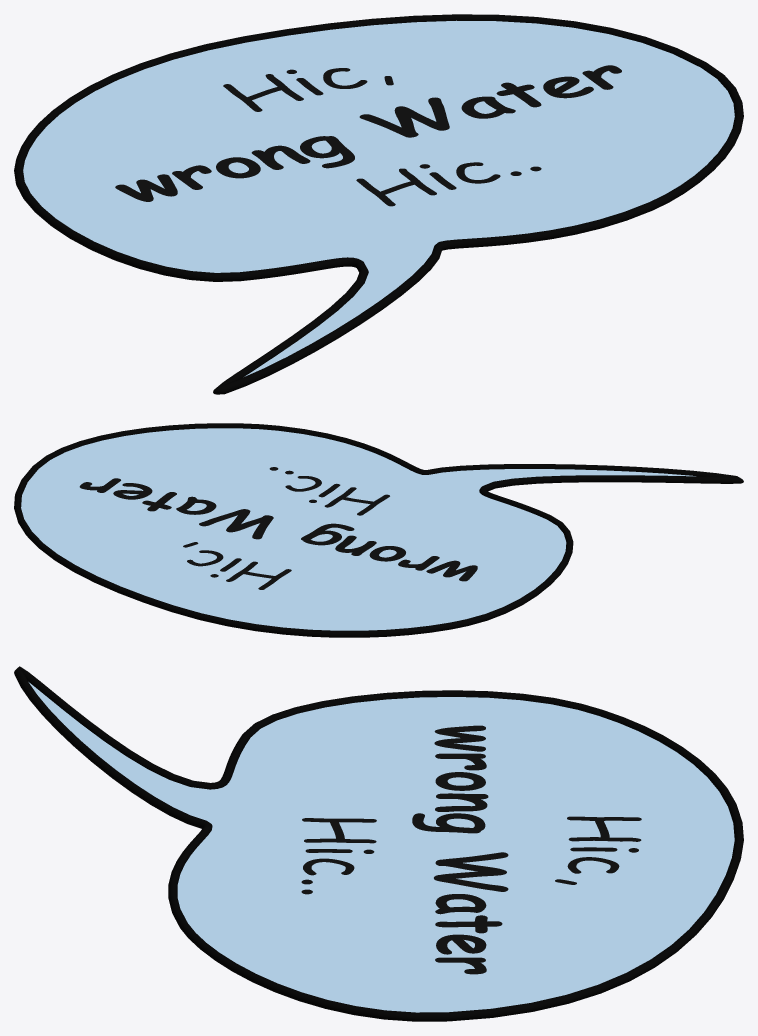
File: Hic.fbx
3 views of the same model, one above another, from view 1: azimuth 30°, elevation 25°; view 2: azimuth 150°, elevation 25°; view 3: azimuth 270°, elevation 25° (orthographic). The views are drawn at different scales.
Parts seen in each view (by area): view 1: BezierCircle.007, BezierCircle.006, Text.003; view 2: BezierCircle.007, BezierCircle.006, Text.003; view 3: BezierCircle.007, BezierCircle.006, Text.003.
Part boxes in pixels (x1,y1,x2,y2): BezierCircle.007: [23, 20, 734, 376]; BezierCircle.006: [14, 14, 743, 394]; Text.003: [115, 65, 621, 206]; BezierCircle.007: [21, 428, 695, 630]; BezierCircle.006: [14, 423, 743, 637]; Text.003: [79, 467, 477, 589]; BezierCircle.007: [28, 682, 734, 1012]; BezierCircle.006: [14, 666, 743, 1021]; Text.003: [301, 725, 641, 974].
Bounding box in the file's own units: 179 × 2.58 × 157.
